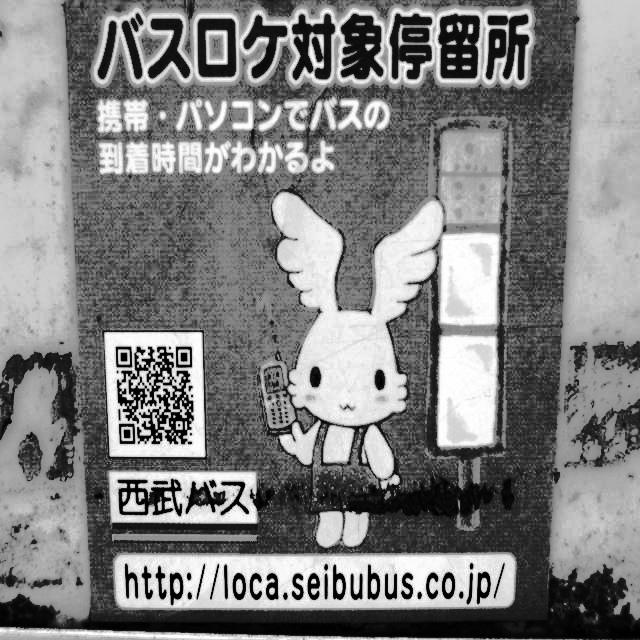qr_code: (116, 346, 194, 444)
